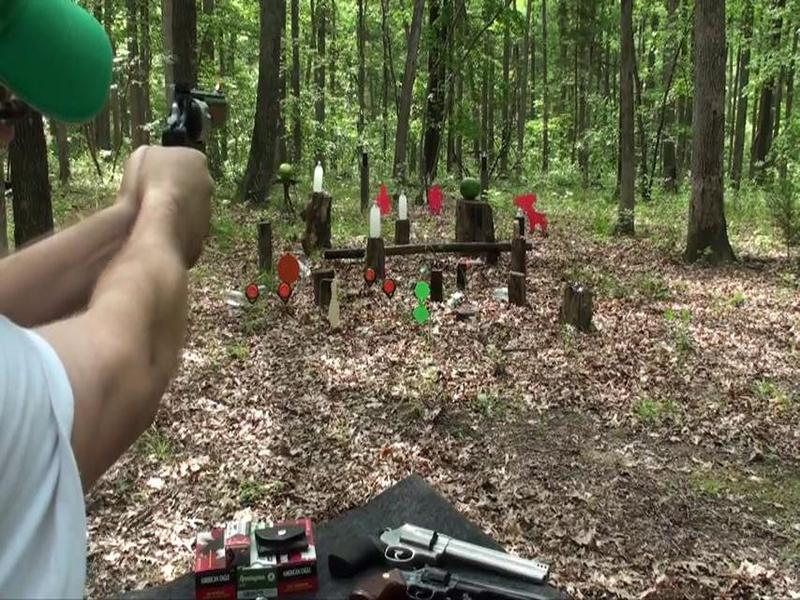Revolver: (147, 63, 243, 193)
